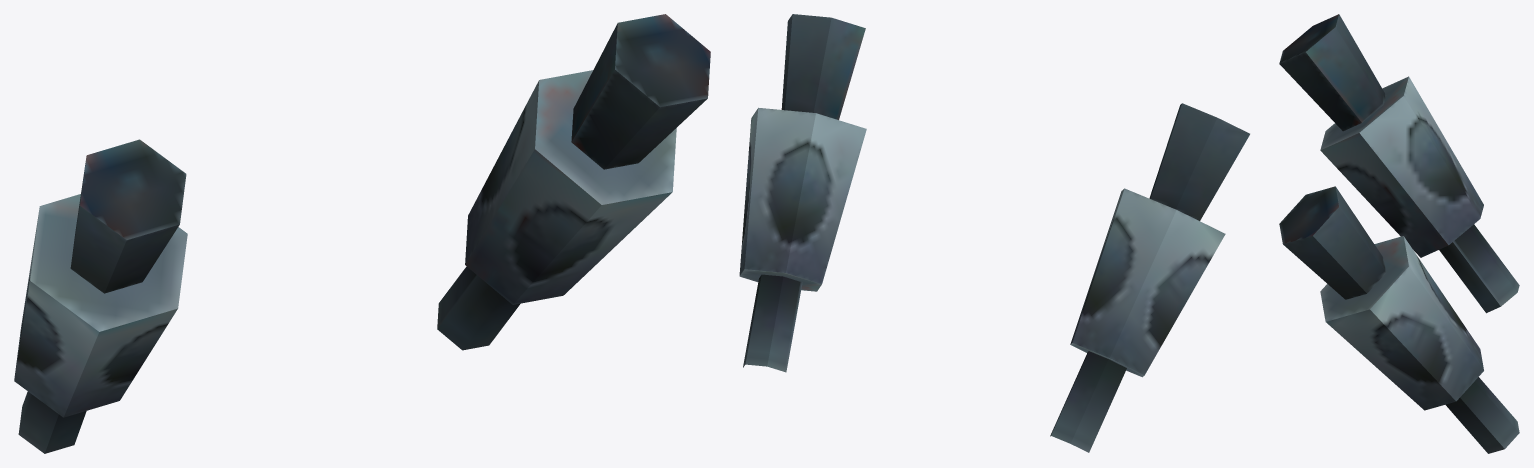
File: Truck 3 Thruster.glb
The picture shows the model from 3 angles, left to right: view 1: azimuth 30°, elevation 25°; view 2: azimuth 150°, elevation 25°; view 3: azimuth 270°, elevation 25°; orthographic projection. The views are drawn at different scales.
Visible parts, largest first — view 1: thrusters; view 2: thrusters; view 3: thrusters.
Boxes of the visible parts, box(x1,y1,x2,y2) form: thrusters: box(14, 14, 710, 453); thrusters: box(739, 14, 1249, 452); thrusters: box(1279, 14, 1519, 453).
Bounding box in the file's own units: 1.98 × 1.17 × 0.9337.
Materials: 1 (1 with a texture image).
